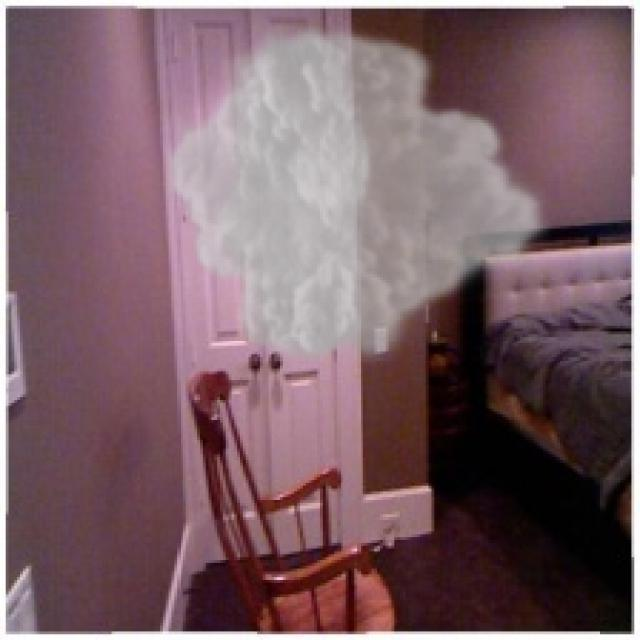Smoke: (163, 17, 552, 372)
